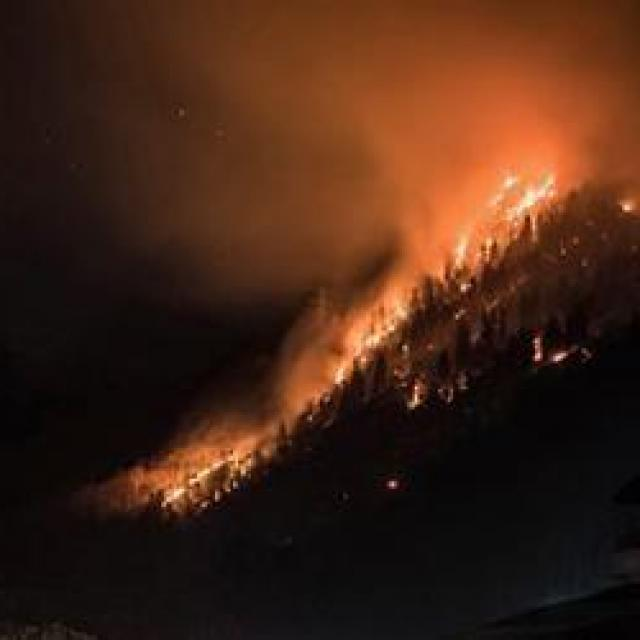fire: (149, 451, 254, 511), (334, 314, 390, 388), (488, 169, 554, 214)
smoke: (273, 294, 345, 406), (392, 178, 457, 264), (165, 414, 248, 466)
